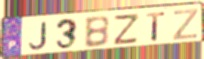3: (55, 17, 81, 52)
B: (83, 15, 111, 49)
J: (28, 21, 49, 52)
T: (145, 11, 167, 42)
Z: (112, 12, 141, 46), (171, 8, 200, 42)
